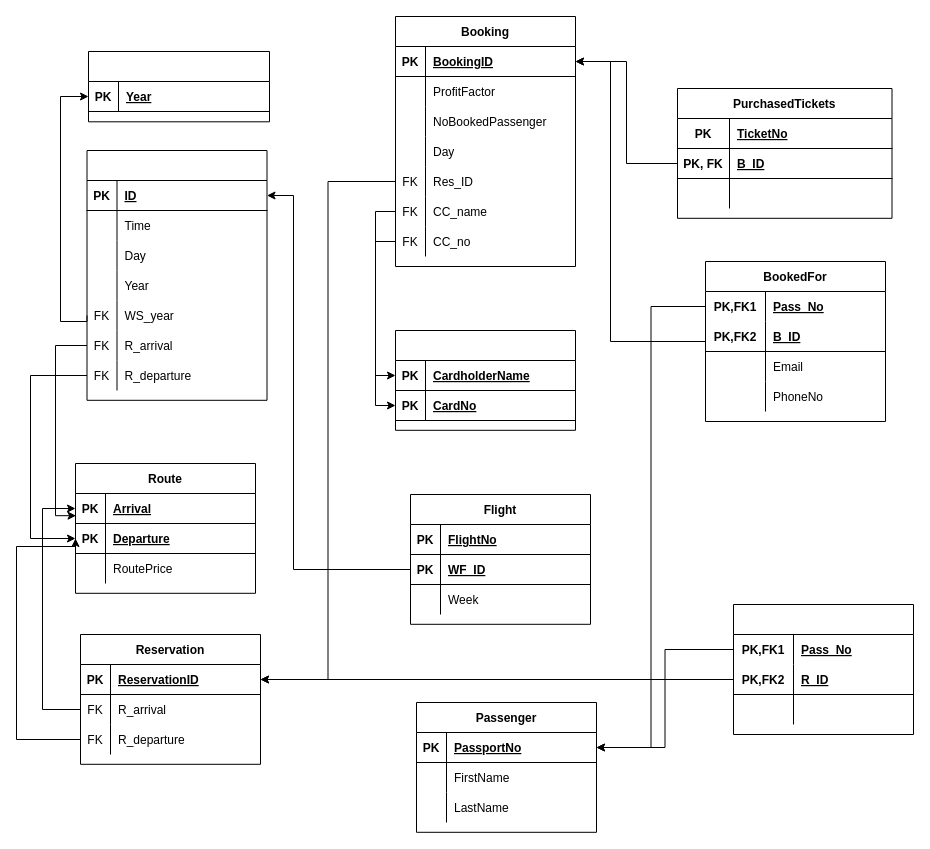
Image size: 930x849. Some labels were removed from this diagram. The shapes that lost their labels are listed below. From the top down, each one's box as (x1, y1, x2, y2) in pixels, then its label:
(88, 50, 270, 122): Weekly schedule
(86, 150, 267, 400): Weekly flight
(394, 330, 576, 430): Customer
(732, 604, 914, 734): ReservedFor
